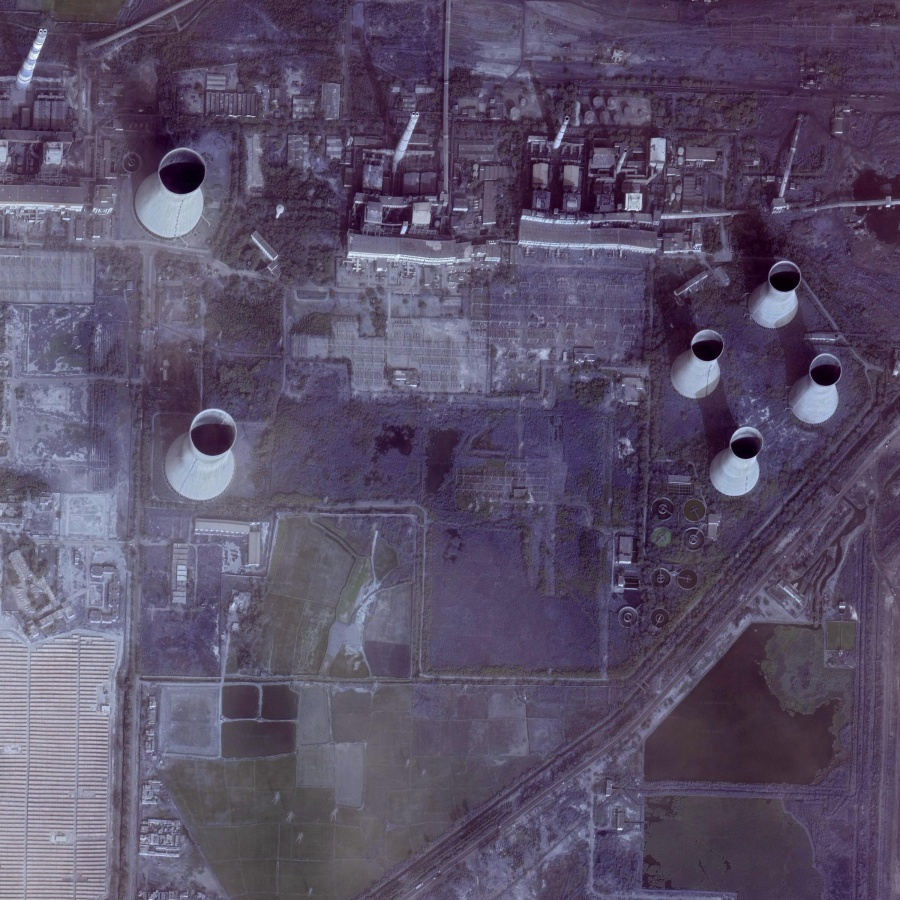PowerPlant: (347, 61, 842, 498), (145, 396, 389, 670)
